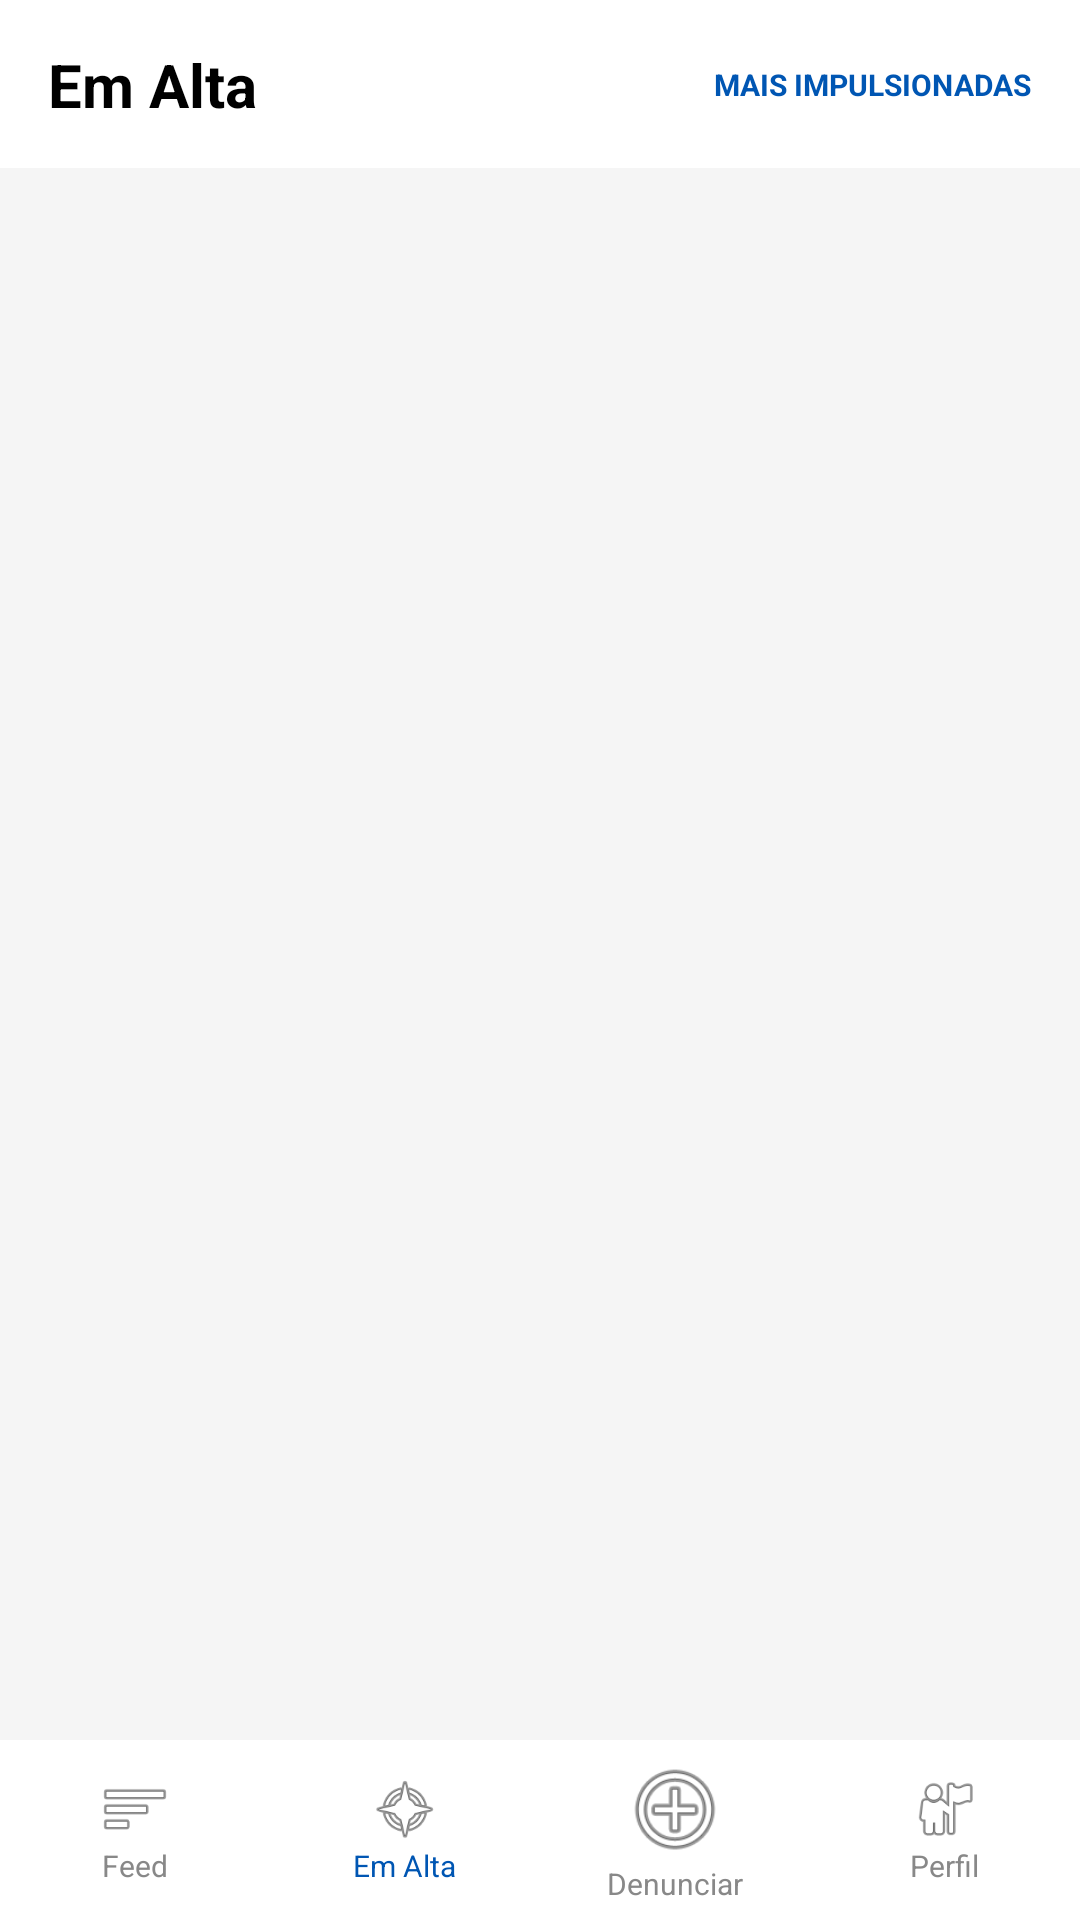

Icons on this 1080*1920 Android screen, each with its box as [x1,y1,x2,y2]:
add: [635,1769,715,1850]
compass: [376,1781,433,1838]
sort by size: [104,1789,166,1830]
